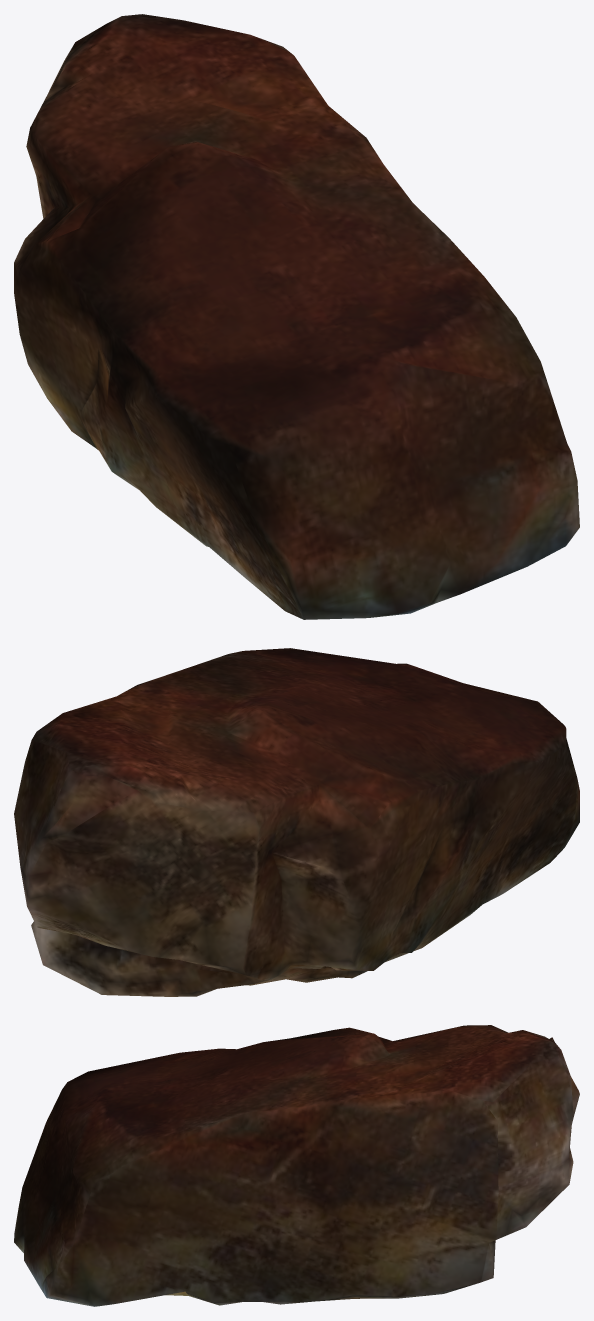
The model's file is rock_07.glb.
3 views of the same model, one above another, from view 1: azimuth 30°, elevation 25°; view 2: azimuth 150°, elevation 25°; view 3: azimuth 270°, elevation 25° (orthographic). The views are drawn at different scales.
Parts seen in each view (by area): view 1: rock_07; view 2: rock_07; view 3: rock_07.
Boxes of the visible parts, <box> form: rock_07: <box>14,14,579,619</box>; rock_07: <box>14,648,579,996</box>; rock_07: <box>14,1025,579,1306</box>.
Size of the model in its own units: 0.1675 by 0.1434 by 0.3194.
Materials: 1 (1 with a texture image).
